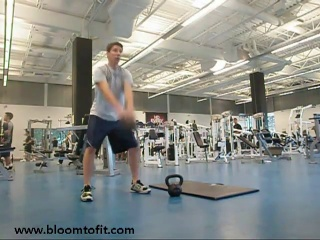person: (78, 41, 150, 202)
